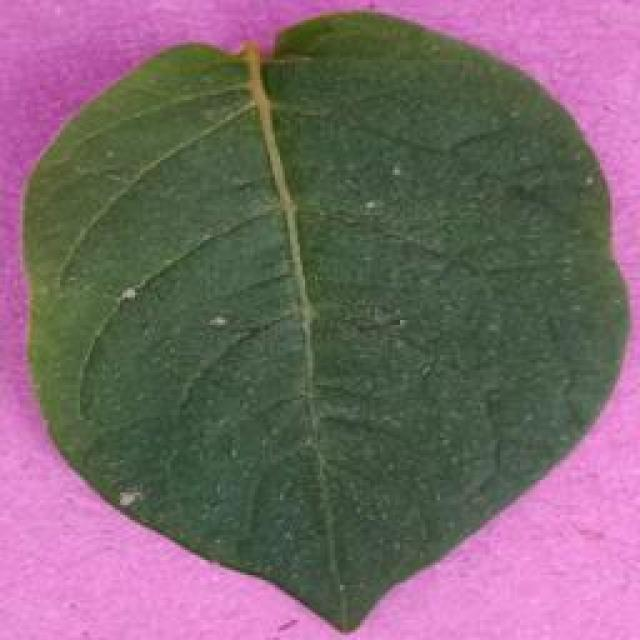Potato_Healthy: (20, 13, 619, 631)
